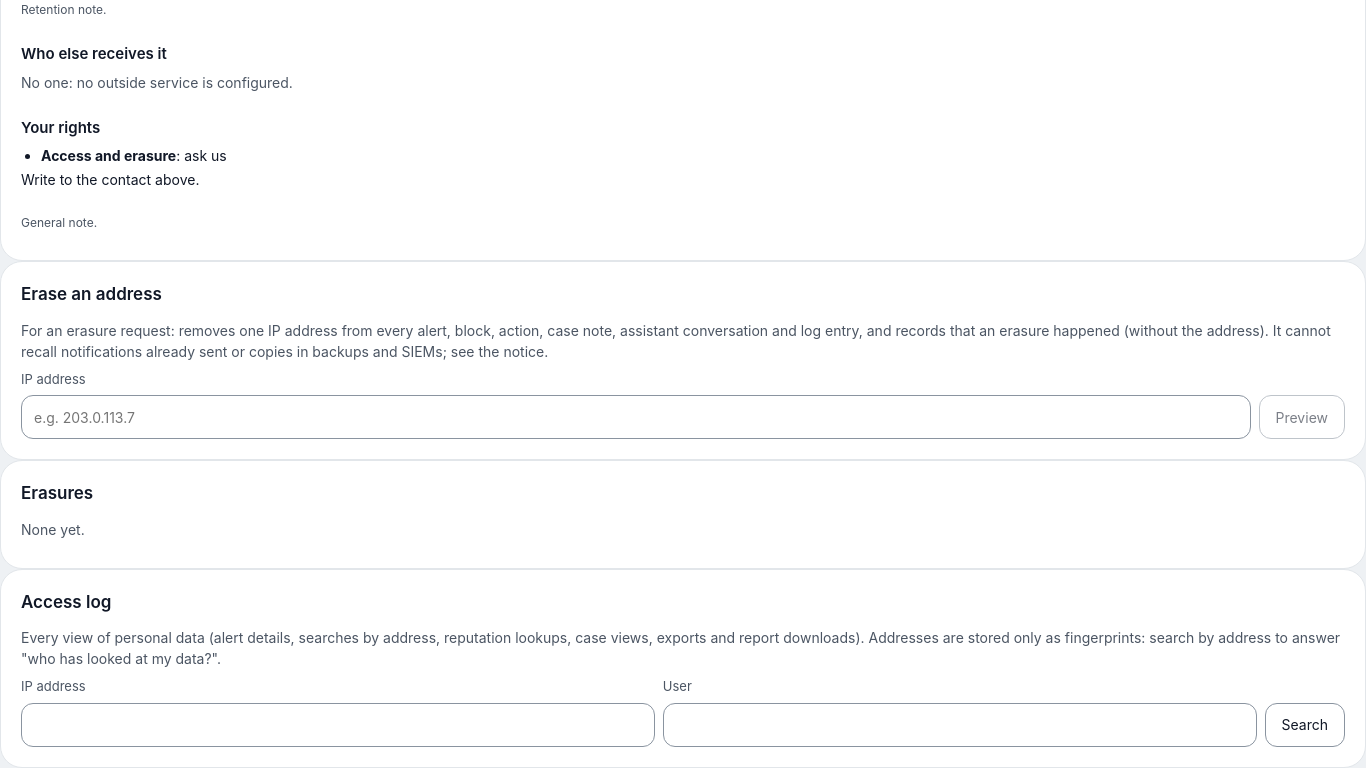
Test case: AccessLog › shows No matching entries when empty
(page scrolled)
Click the button "Search": [1305, 725] box [1264,703,1345,747]
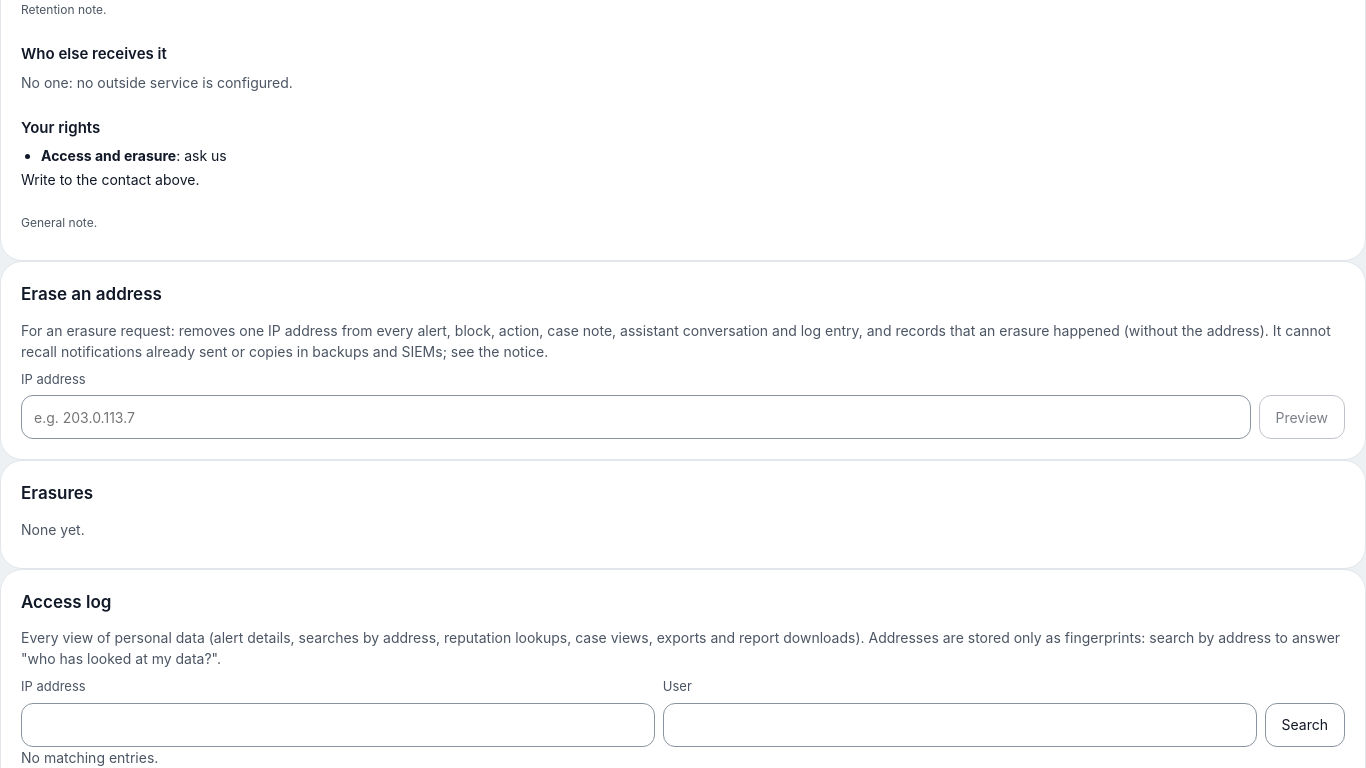
Expected: the text "No matching entries." is shown, [21,749,158,766]
